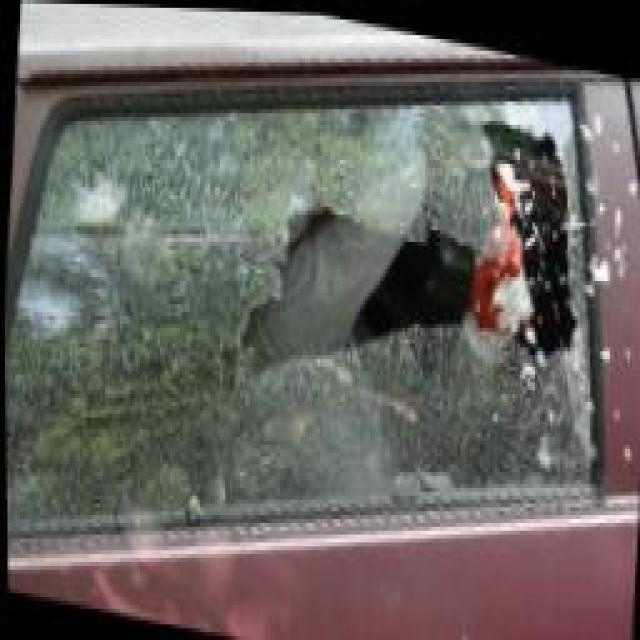Door: (25, 105, 607, 524)
